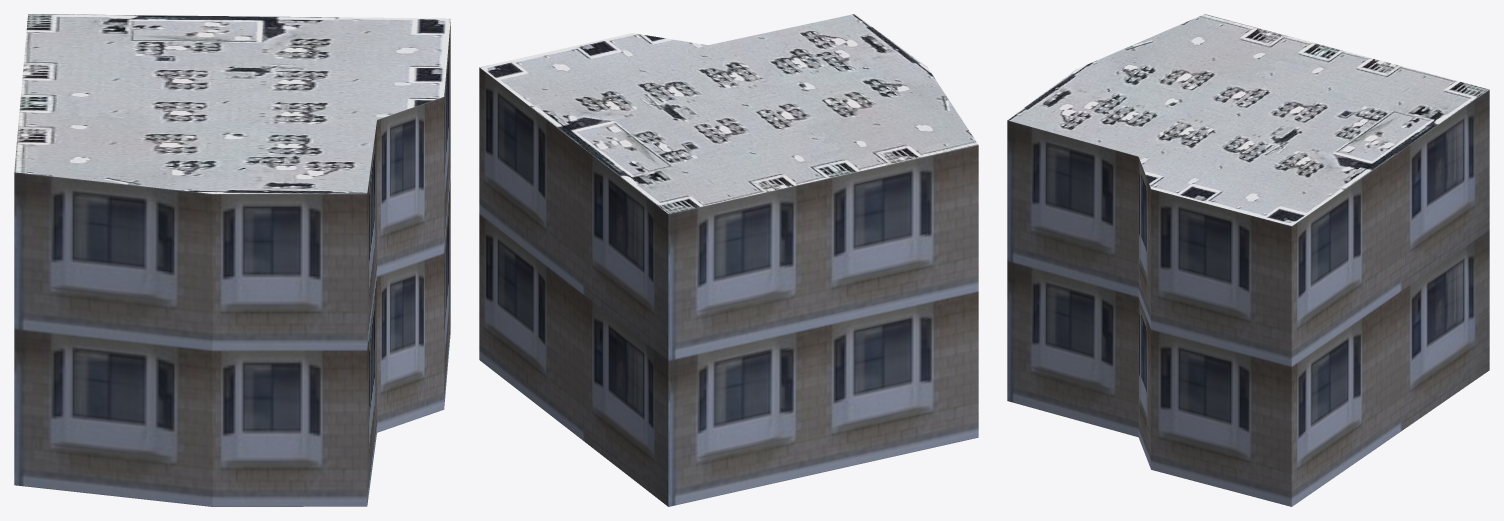
The model's file is ResTex__4305.fbx.
3 renders of one model, left to right at view 1: azimuth 30°, elevation 25°; view 2: azimuth 150°, elevation 25°; view 3: azimuth 270°, elevation 25°, orthographic. The views are drawn at different scales.
Parts seen in each view (by area): view 1: CityEngineMaterial_3_m, CityEngineMaterial_4_m; view 2: CityEngineMaterial_3_m, CityEngineMaterial_4_m; view 3: CityEngineMaterial_3_m, CityEngineMaterial_4_m.
Part boxes in pixels (x1,y1,x2,y2): CityEngineMaterial_3_m: (14,22,450,506); CityEngineMaterial_4_m: (14,14,450,193); CityEngineMaterial_3_m: (479,67,978,506); CityEngineMaterial_4_m: (480,14,978,213); CityEngineMaterial_3_m: (1007,90,1489,506); CityEngineMaterial_4_m: (1007,14,1489,226).
Size of the model in its own units: 9.73 by 6 by 9.35.
2 materials, 2 textured.
